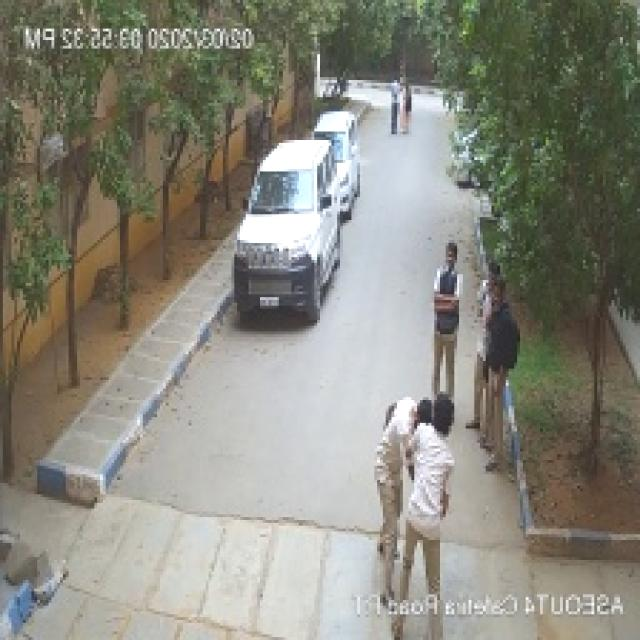fight: (349, 380, 499, 638)
